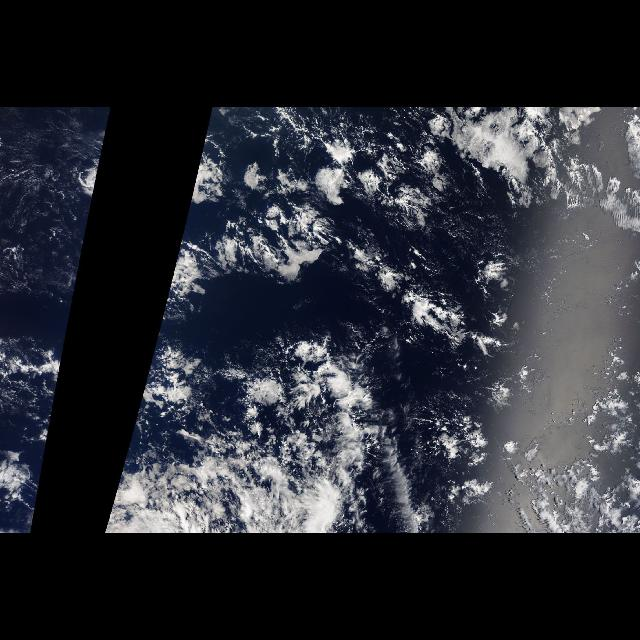Flower: (158, 111, 436, 329)
Sugar: (0, 108, 96, 306)
